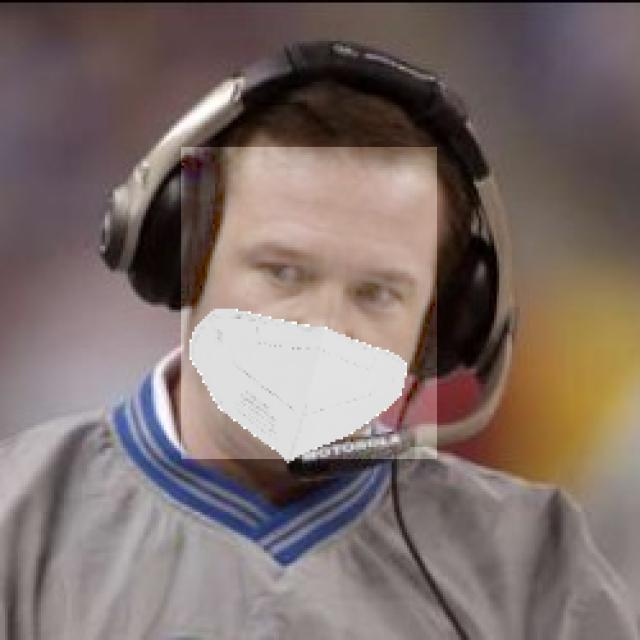kn95: (181, 148, 437, 460)
